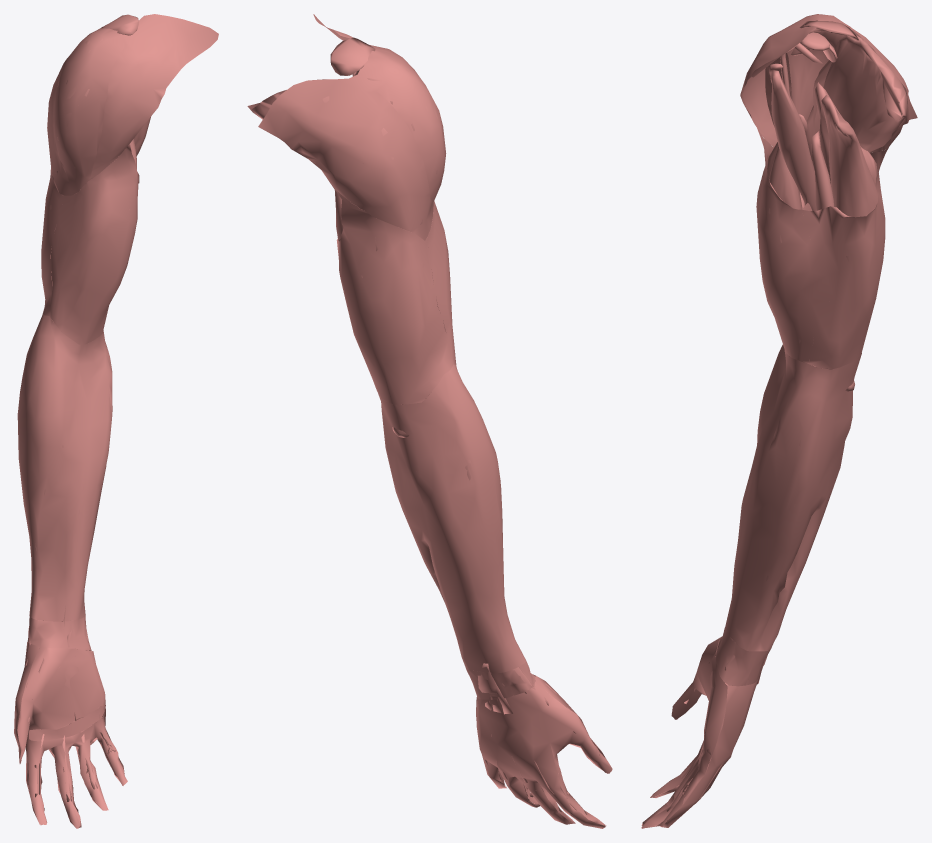
File: lod1-arm-right-muscle.glb
The picture shows the model from 3 angles, left to right: view 1: azimuth 30°, elevation 25°; view 2: azimuth 150°, elevation 25°; view 3: azimuth 270°, elevation 25°; orthographic projection. The views are drawn at different scales.
Parts seen in each view (by area): view 1: part::Antebrachial fascia.r, part::Deltoid fascia.r, part::Brachial fascia.r, part::Palmar aponeurosis.r, part::Flexor retinaculum of wrist.r, part::Dorsal fascia of hand.r, part::Superficial transverse metacarpal ligament.r, part::Subcutaneous acromial bursa.r, part::Synovial sheaths of digits of hand.r; view 2: part::Antebrachial fascia.r, part::Deltoid fascia.r, part::Brachial fascia.r, part::Dorsal fascia of hand.r, part::Palmar aponeurosis.r, part::Subcutaneous acromial bursa.r, part::Extensor retinaculum of wrist.r, part::Tendon sheath of extensor digitorum and extensor indic; view 3: part::Antebrachial fascia.r, part::Brachial fascia.r, part::Scapular spinal part of deltoid muscle.r, part::Deltoid fascia.r, part::Palmar aponeurosis.r, part::Long head of triceps brachii.r, part::Coracobrachialis muscle.r, part::Dorsal fascia of hand.r, part::Acromial part of deltoid muscle.r, part::Flexor retinaculum of wrist.r, part::Short head of biceps brachii.r, part::Medial head of triceps brachii.r (+2 smaller).
Boxes of the visible parts, left/top/right/bottom form: part::Antebrachial fascia.r: left=17, top=314, right=112, bottom=621; part::Deltoid fascia.r: left=47, top=14, right=218, bottom=195; part::Brachial fascia.r: left=41, top=144, right=139, bottom=344; part::Palmar aponeurosis.r: left=17, top=647, right=127, bottom=828; part::Flexor retinaculum of wrist.r: left=28, top=616, right=91, bottom=650; part::Dorsal fascia of hand.r: left=14, top=642, right=124, bottom=828; part::Superficial transverse metacarpal ligament.r: left=29, top=706, right=104, bottom=741; part::Subcutaneous acromial bursa.r: left=101, top=14, right=138, bottom=35; part::Synovial sheaths of digits of hand.r: left=34, top=730, right=97, bottom=801; part::Antebrachial fascia.r: left=378, top=364, right=526, bottom=673; part::Deltoid fascia.r: left=258, top=14, right=446, bottom=240; part::Brachial fascia.r: left=329, top=181, right=456, bottom=404; part::Dorsal fascia of hand.r: left=476, top=681, right=612, bottom=828; part::Palmar aponeurosis.r: left=476, top=674, right=611, bottom=825; part::Subcutaneous acromial bursa.r: left=330, top=37, right=375, bottom=75; part::Extensor retinaculum of wrist.r: left=466, top=667, right=533, bottom=699; part::Tendon sheath of extensor digitorum and extensor indic: left=478, top=663, right=512, bottom=714; part::Antebrachial fascia.r: left=724, top=344, right=861, bottom=651; part::Brachial fascia.r: left=756, top=127, right=891, bottom=368; part::Scapular spinal part of deltoid muscle.r: left=806, top=35, right=907, bottom=160; part::Deltoid fascia.r: left=740, top=14, right=917, bottom=152; part::Palmar aponeurosis.r: left=641, top=636, right=727, bottom=828; part::Long head of triceps brachii.r: left=821, top=95, right=877, bottom=358; part::Coracobrachialis muscle.r: left=771, top=70, right=816, bottom=210; part::Dorsal fascia of hand.r: left=641, top=678, right=758, bottom=827; part::Acromial part of deltoid muscle.r: left=787, top=16, right=852, bottom=121; part::Flexor retinaculum of wrist.r: left=716, top=628, right=757, bottom=686; part::Short head of biceps brachii.r: left=760, top=63, right=802, bottom=242; part::Medial head of triceps brachii.r: left=811, top=131, right=833, bottom=369.
Size of the model in its own units: 0.2459 by 0.7262 by 0.207.
